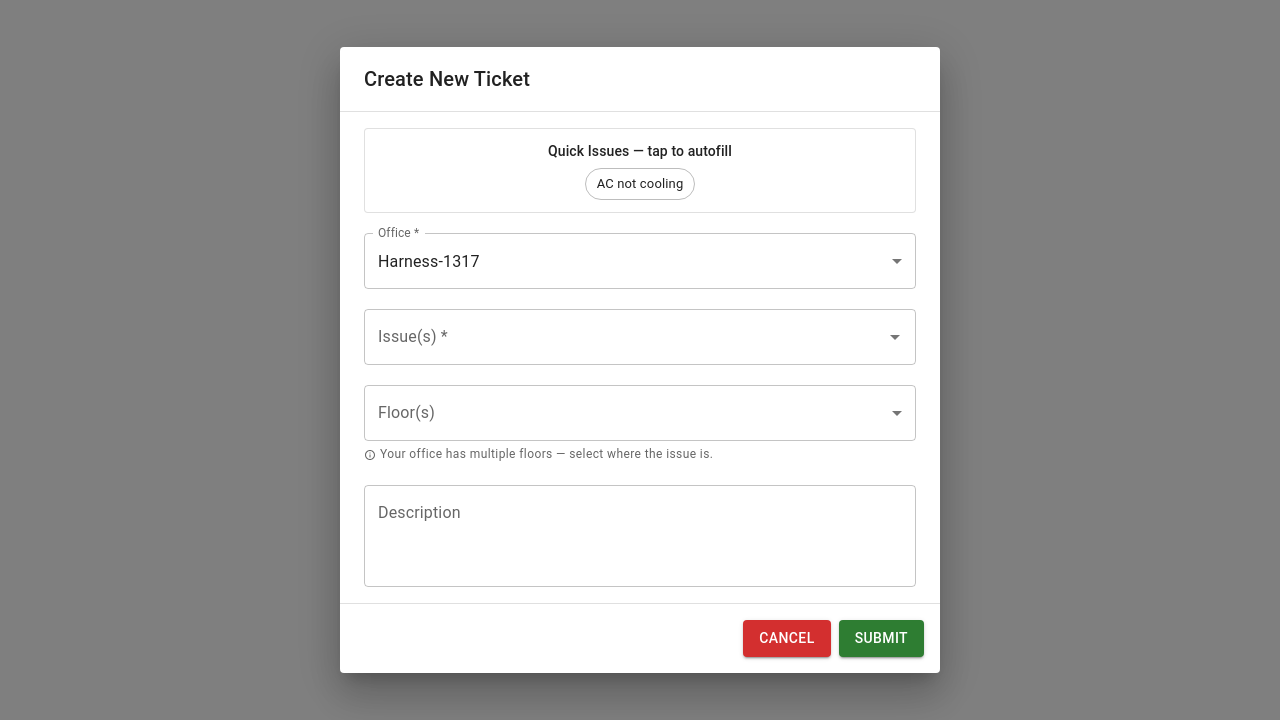
CreateTicketDialog › requires a floor for a multi-floor office
Step 1. Click the button "AC not cooling" → (640, 184), box [585, 168, 695, 200]
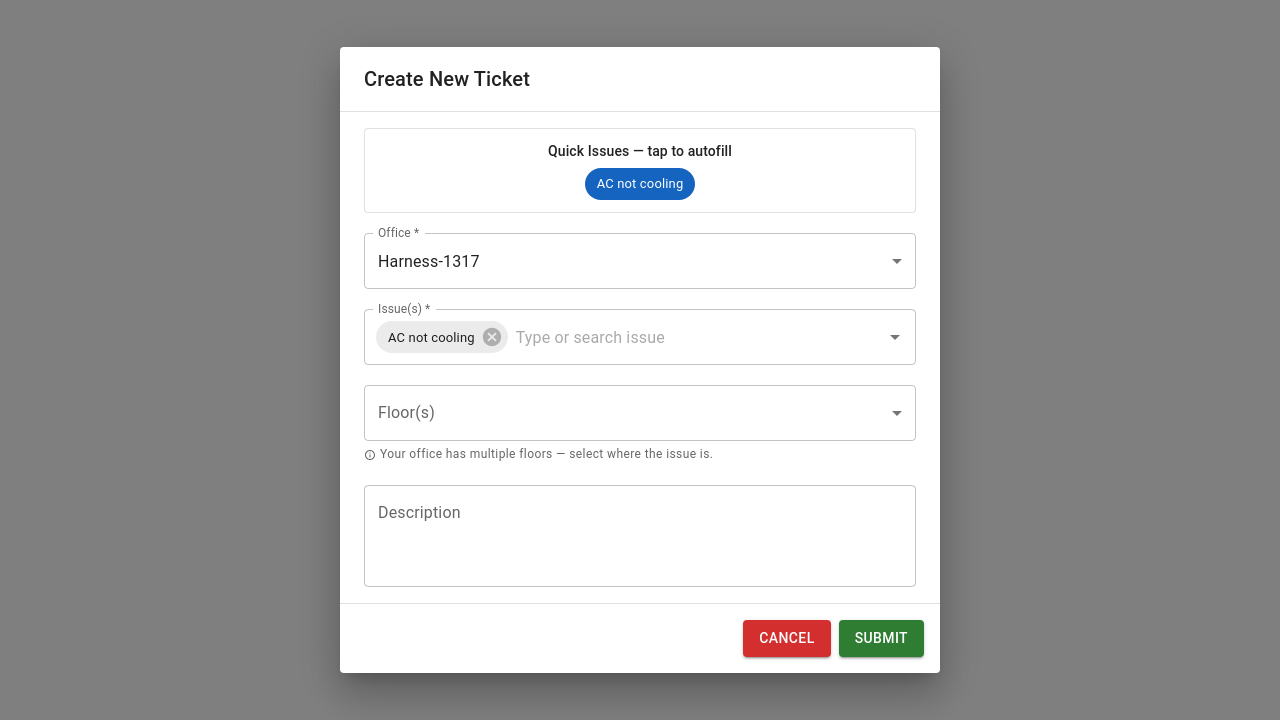
Step 2. Click the button "Submit" → (881, 638), box [839, 620, 924, 657]
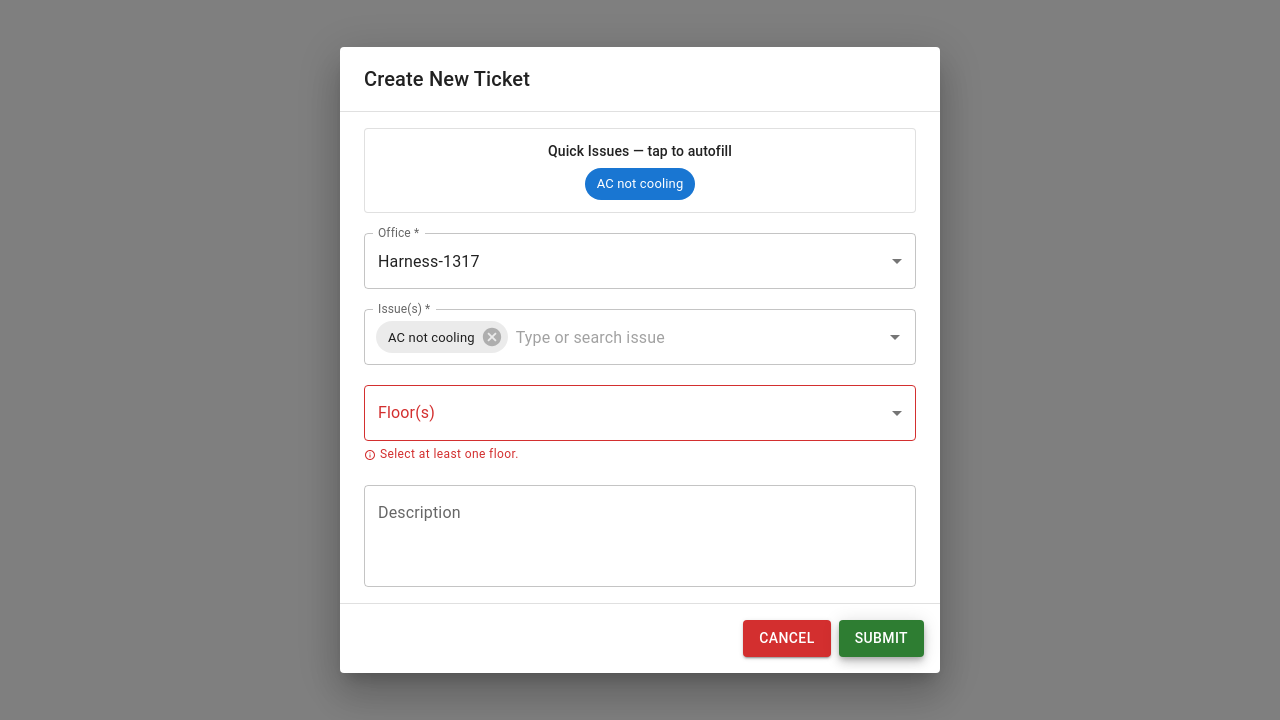
Result: the text "Select at least one floor." is shown at [364, 447, 519, 461]
